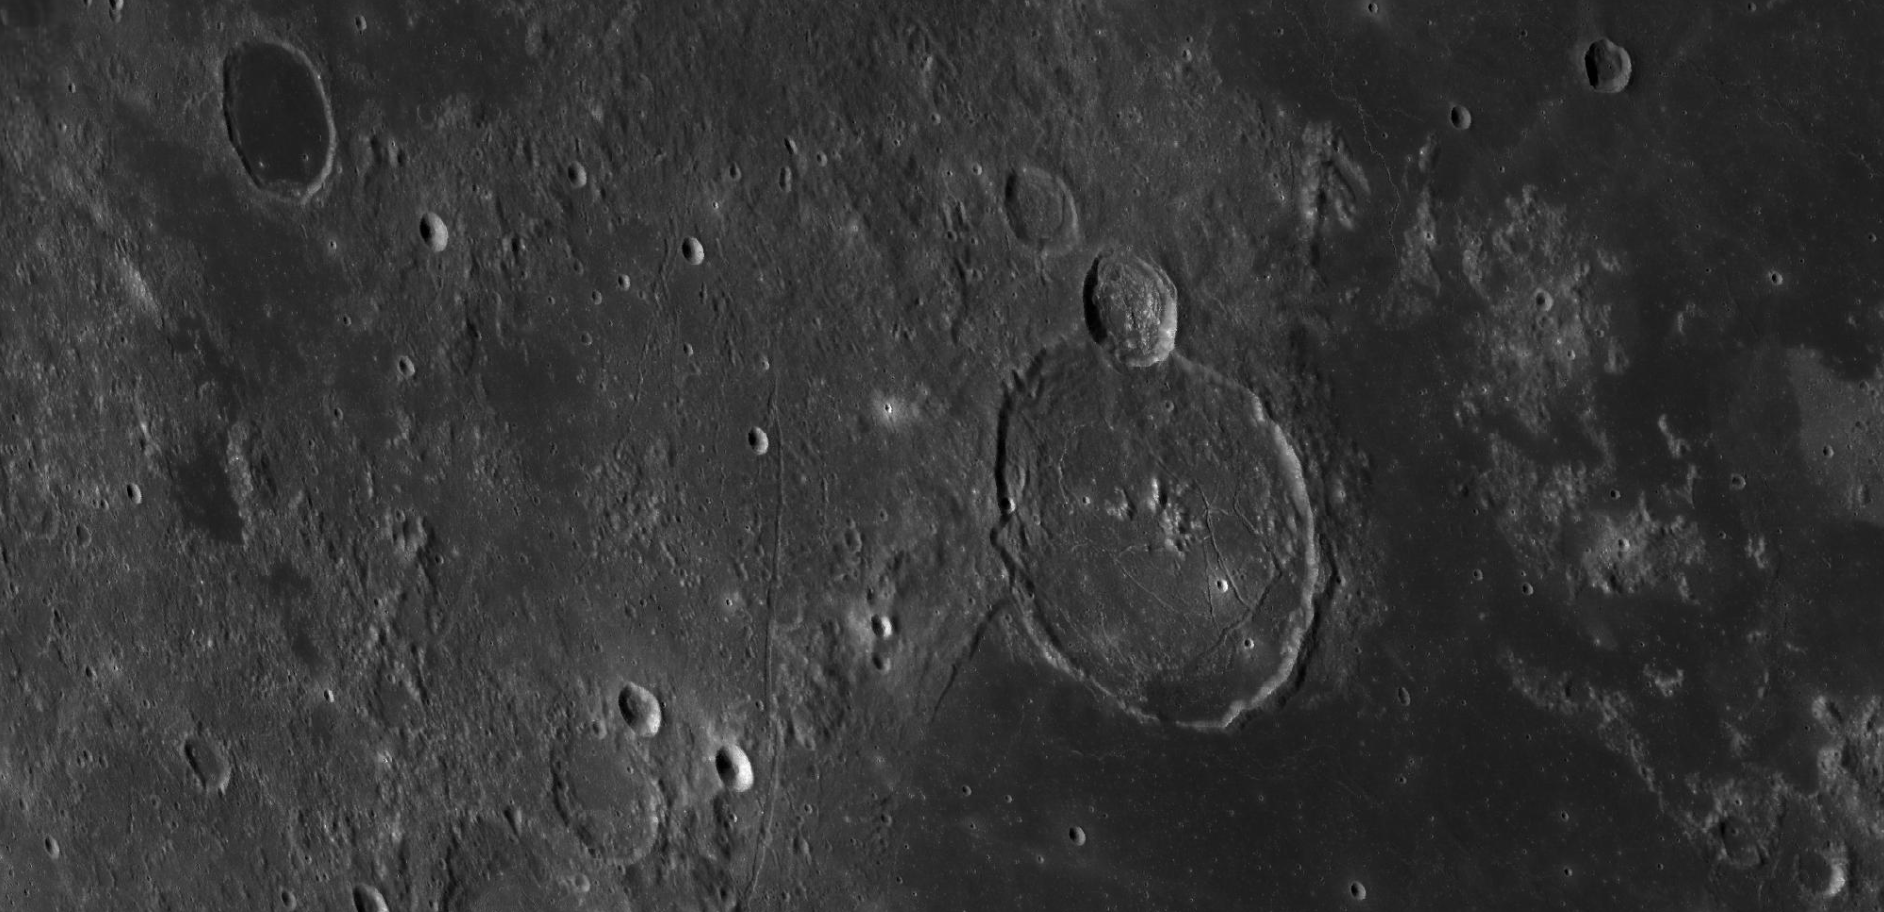crater: (966, 324, 1375, 765), (184, 22, 366, 242), (968, 126, 1090, 266), (155, 703, 272, 813), (1548, 24, 1657, 120), (601, 658, 687, 759), (1436, 56, 1514, 165), (1739, 240, 1806, 315), (1787, 830, 1854, 904), (721, 400, 775, 489)
